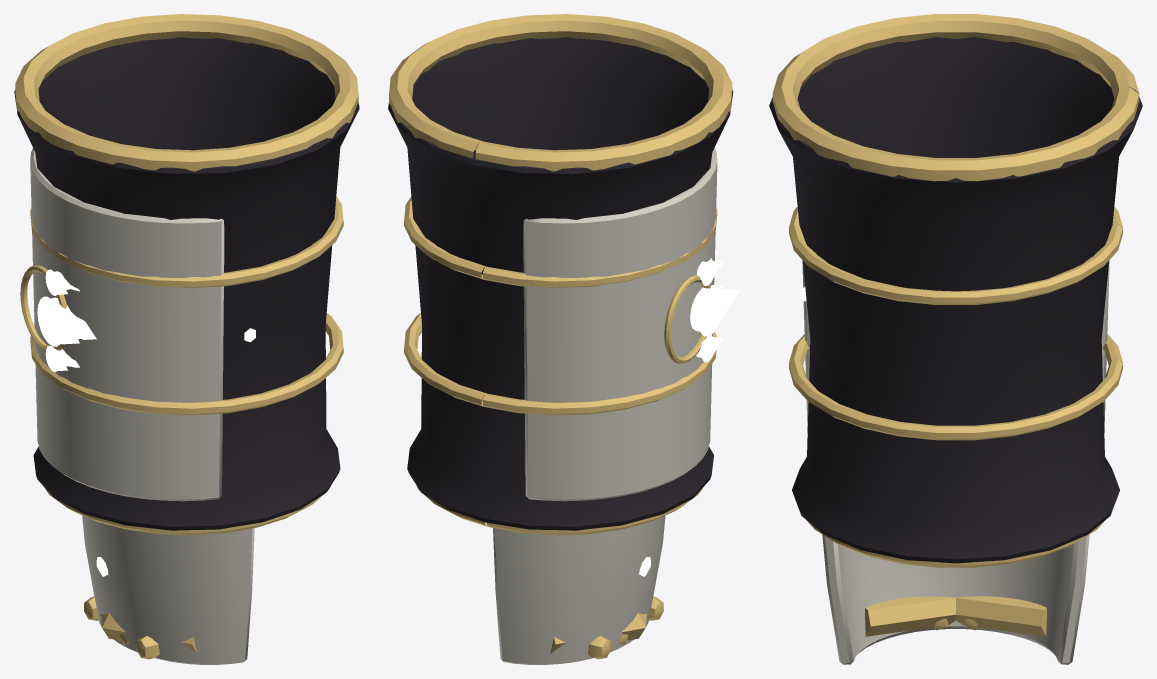
File: asc_sanctified_shade_gloves_R.glb
3 renders of one model, left to right at view 1: azimuth 30°, elevation 25°; view 2: azimuth 150°, elevation 25°; view 3: azimuth 270°, elevation 25°, orthographic. The views are drawn at different scales.
Parts seen in each view (by area): view 1: asc_sanctified_shade_gloves, AT_hand_R; view 2: asc_sanctified_shade_gloves, AT_hand_R; view 3: asc_sanctified_shade_gloves, AT_hand_R.
Part boxes in pixels (box(x1,y1,x2,y2)): asc_sanctified_shade_gloves: box(14, 14, 359, 535); AT_hand_R: box(82, 515, 254, 664); asc_sanctified_shade_gloves: box(388, 14, 740, 535); AT_hand_R: box(493, 515, 665, 664); asc_sanctified_shade_gloves: box(769, 14, 1142, 567); AT_hand_R: box(822, 534, 1089, 664).
Bounding box in the file's own units: 0.1971 × 0.3408 × 0.2004.
